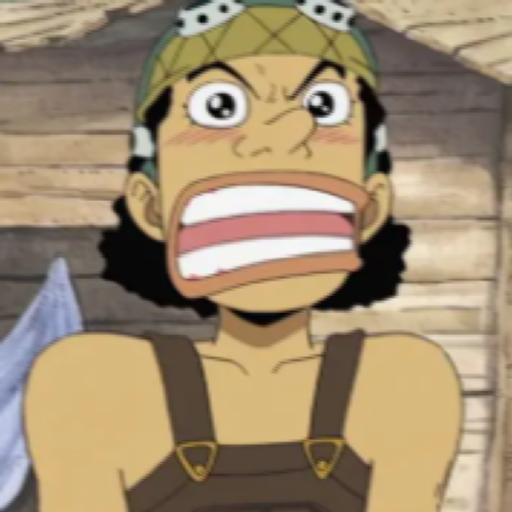Usopp: (11, 2, 480, 512)
